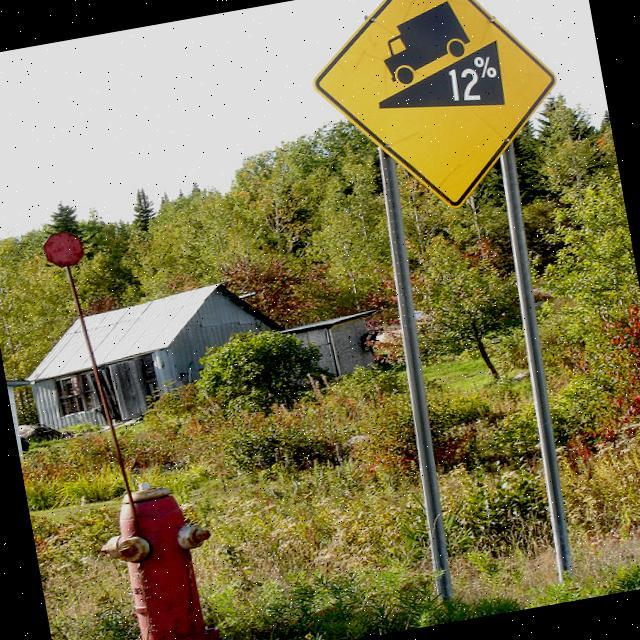fire_hydrant: (90, 466, 231, 640)
